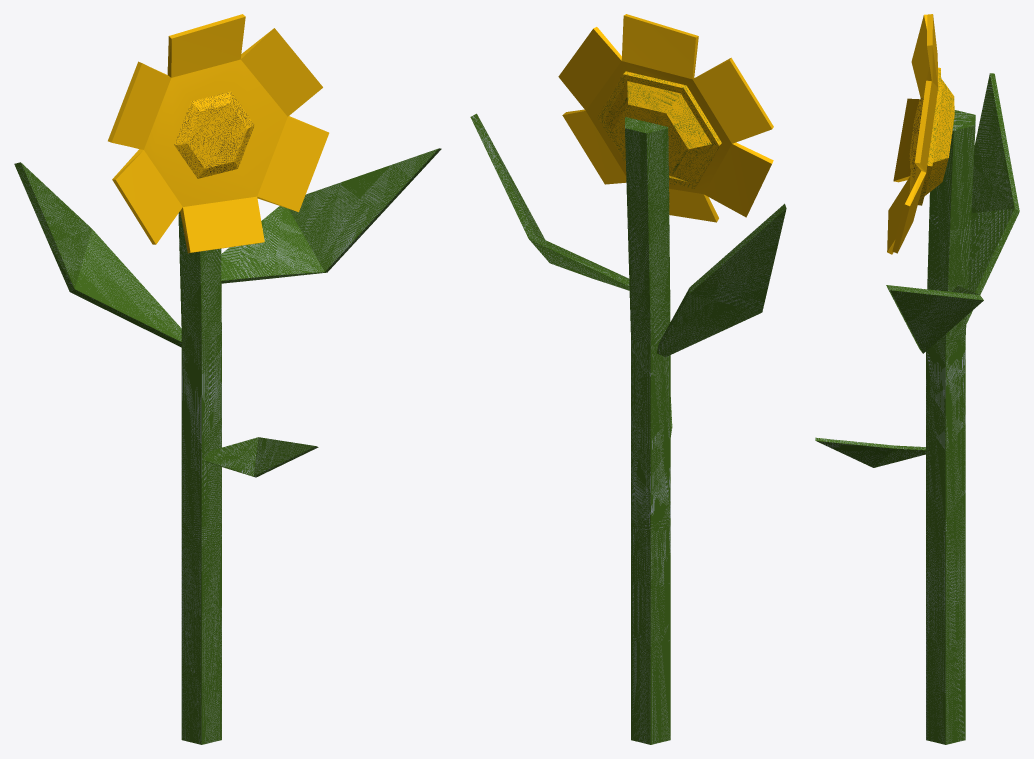
The model's file is Flower_Sunflower_01.fbx.
The picture shows the model from 3 angles, left to right: view 1: azimuth 30°, elevation 25°; view 2: azimuth 150°, elevation 25°; view 3: azimuth 270°, elevation 25°; orthographic projection.
Visible parts, largest first — view 1: Model; view 2: Model; view 3: Model.
Boxes of the visible parts, <box> form: Model: <box>14,14,441,744</box>; Model: <box>470,14,786,744</box>; Model: <box>815,14,1019,744</box>.
Size of the model in its own units: 137 by 250 by 65.65.
